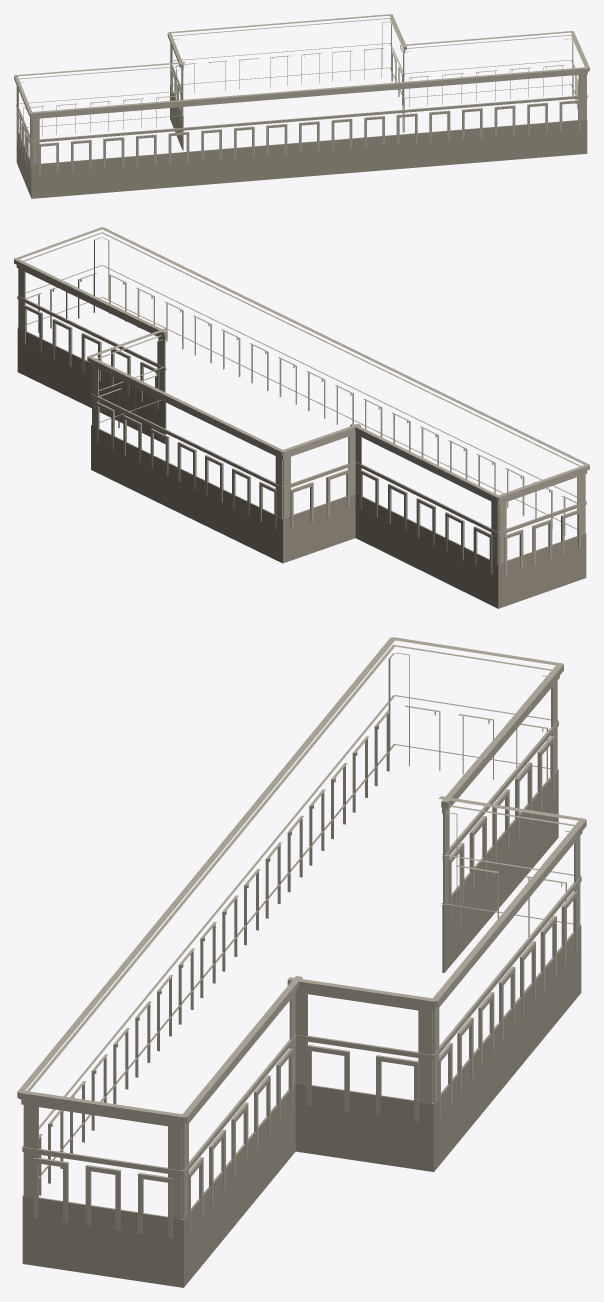
3 views of the same model, one above another, from view 1: azimuth 30°, elevation 25°; view 2: azimuth 150°, elevation 25°; view 3: azimuth 270°, elevation 25° (orthographic). The views are drawn at different scales.
Visible parts, largest first — view 1: detail; view 2: detail; view 3: detail.
Boxes of the visible parts, x1=… form: detail: x1=14, y1=14, x2=589, y2=198; detail: x1=14, y1=227, x2=589, y2=608; detail: x1=17, y1=637, x2=586, y2=1287.
Bounding box in the file's own units: 46.79 × 7.83 × 23.42.
